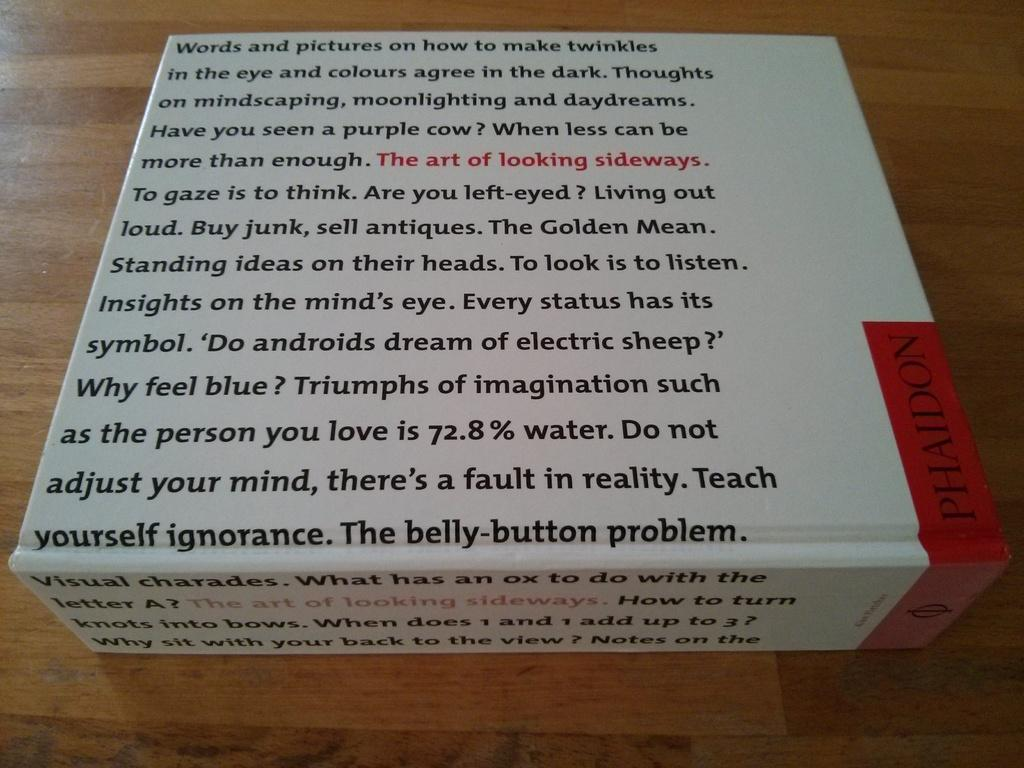book: (15, 23, 977, 732)
